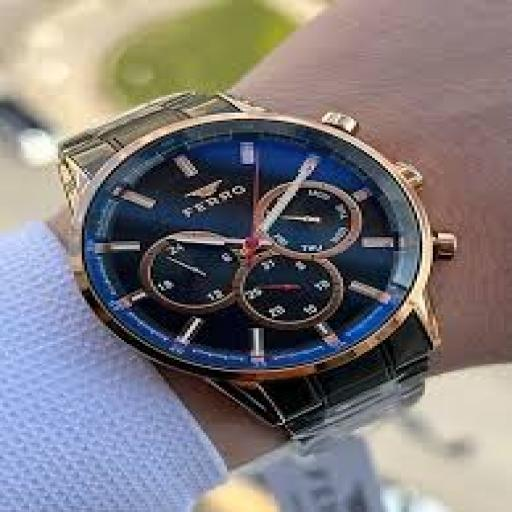KolSaati: (30, 74, 468, 447)
